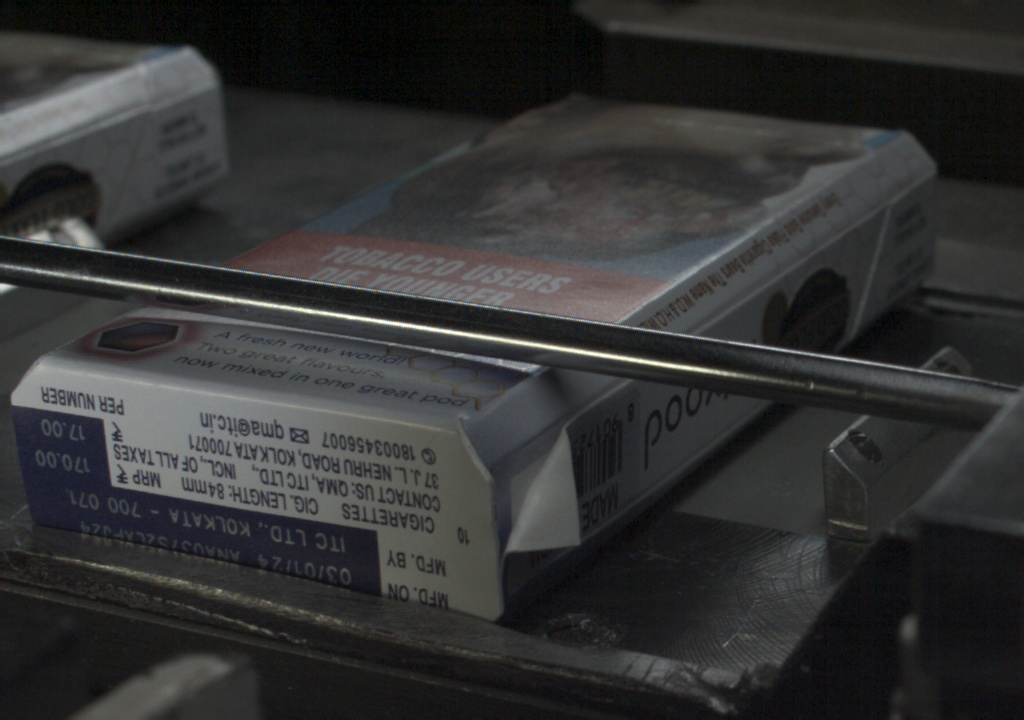g_bottom: (8, 360, 486, 619)
g_label: (23, 485, 379, 596)
g_lmiter: (693, 270, 790, 335), (789, 205, 885, 270)
g_miter: (885, 165, 936, 204)
ng_lmiter: (497, 419, 587, 554)
price: (19, 411, 110, 484)
